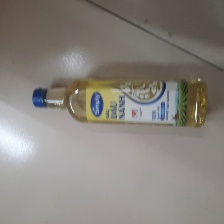Simply: (31, 75, 209, 131)
